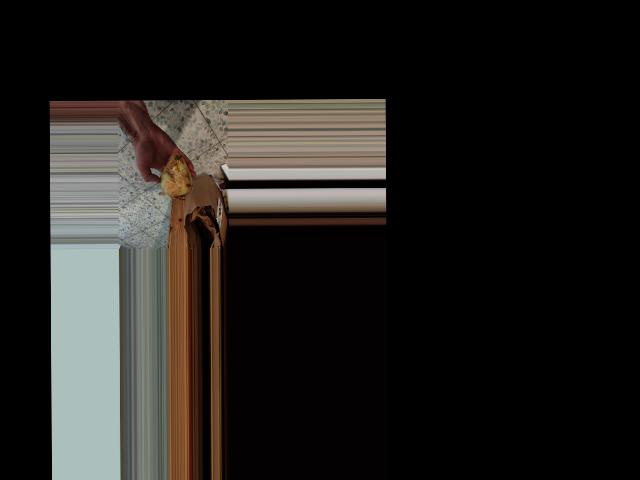onion: (153, 146, 195, 202)
